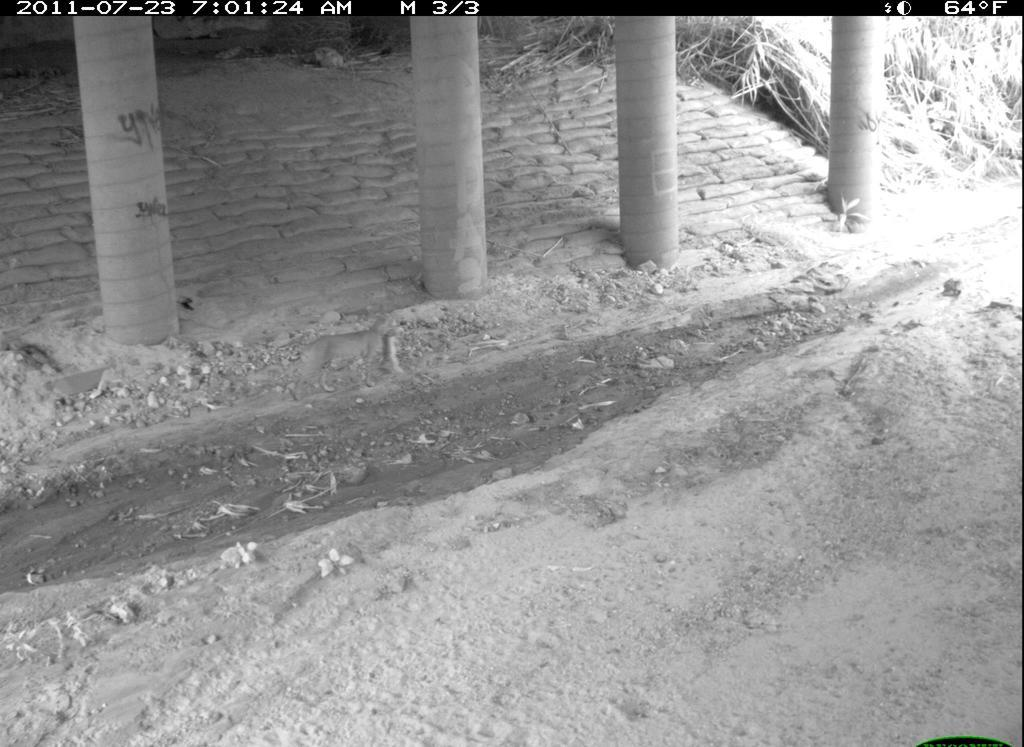bobcat: (574, 613, 802, 747)
rabbit: (760, 653, 805, 747)
